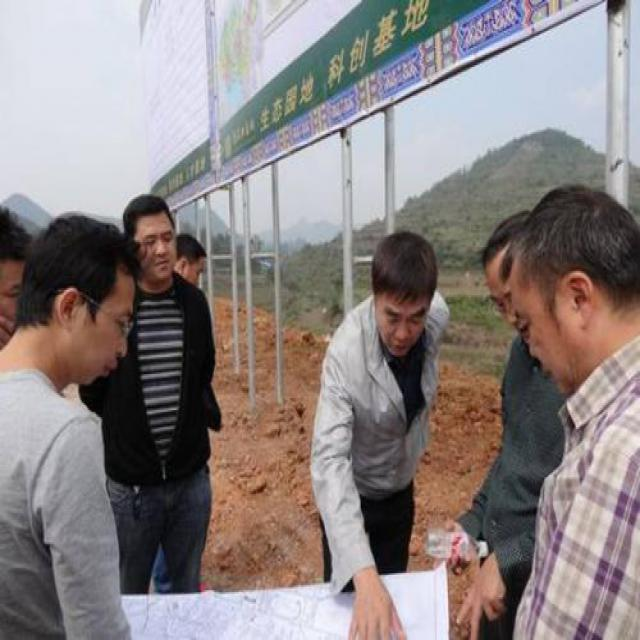head: (503, 181, 640, 408), (21, 205, 138, 387), (362, 219, 443, 356), (481, 211, 546, 362), (120, 190, 179, 288), (167, 226, 215, 298)
person: (473, 171, 640, 640), (292, 219, 456, 640), (2, 208, 151, 640), (100, 181, 234, 598)
